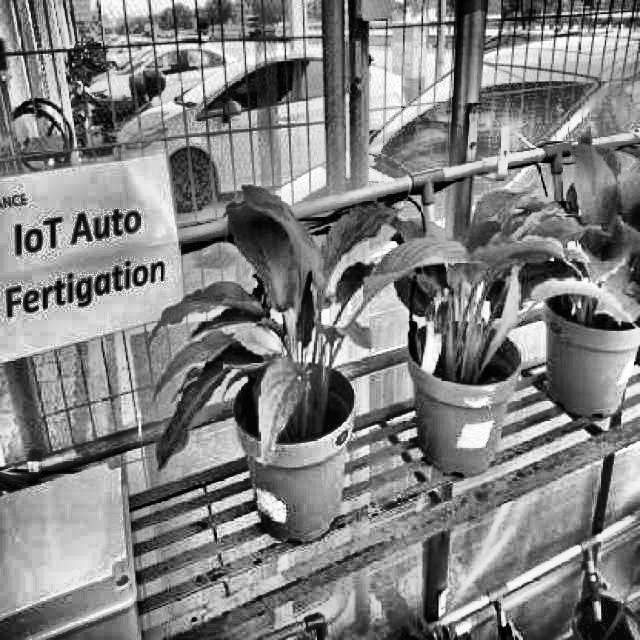plants: (146, 180, 457, 456), (378, 199, 638, 370), (524, 133, 640, 329)
